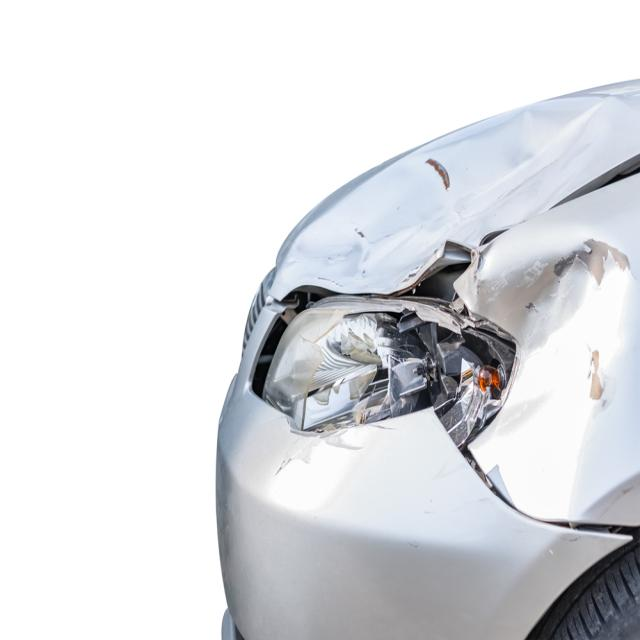Cabossage: (278, 91, 614, 299), (481, 228, 630, 534)
Dechirure: (416, 219, 506, 293)
Phare abime: (281, 291, 516, 441)
Rayure: (546, 222, 632, 430), (266, 431, 358, 486), (423, 152, 458, 202)
